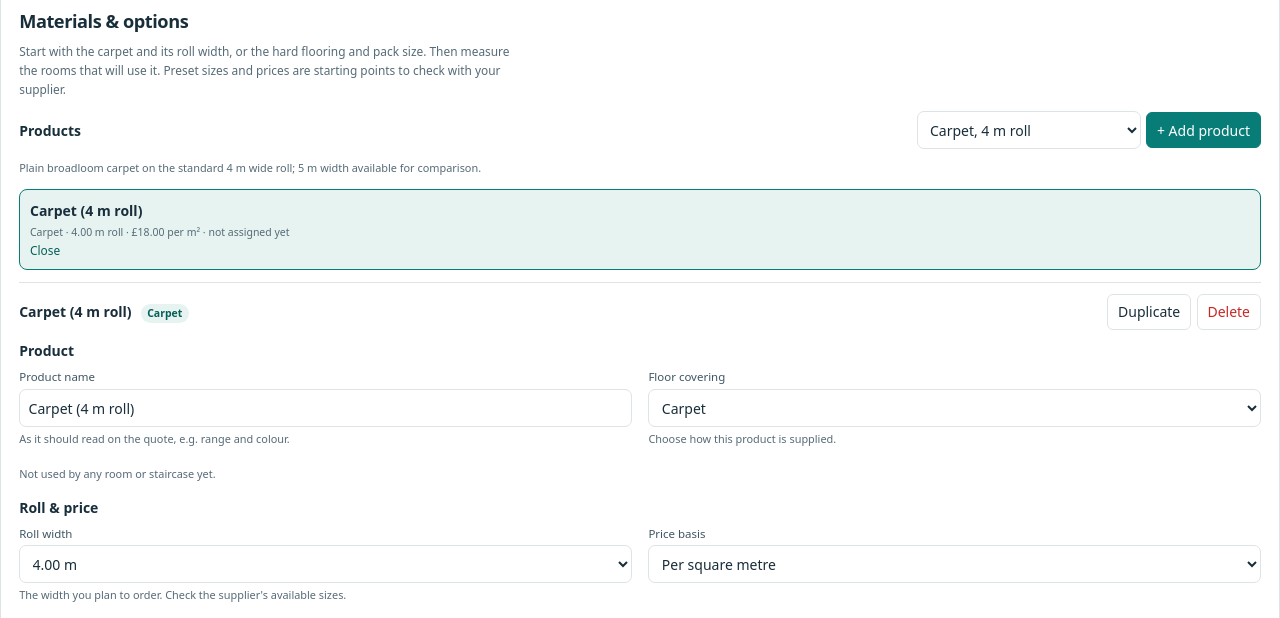
Test: MaterialsPanel › adds a product from a preset and opens it for editing
Step 1. Select "Laminate, 8 mm click" in the dropdown named "Product preset" → [1028, 130], box [916, 111, 1140, 149]
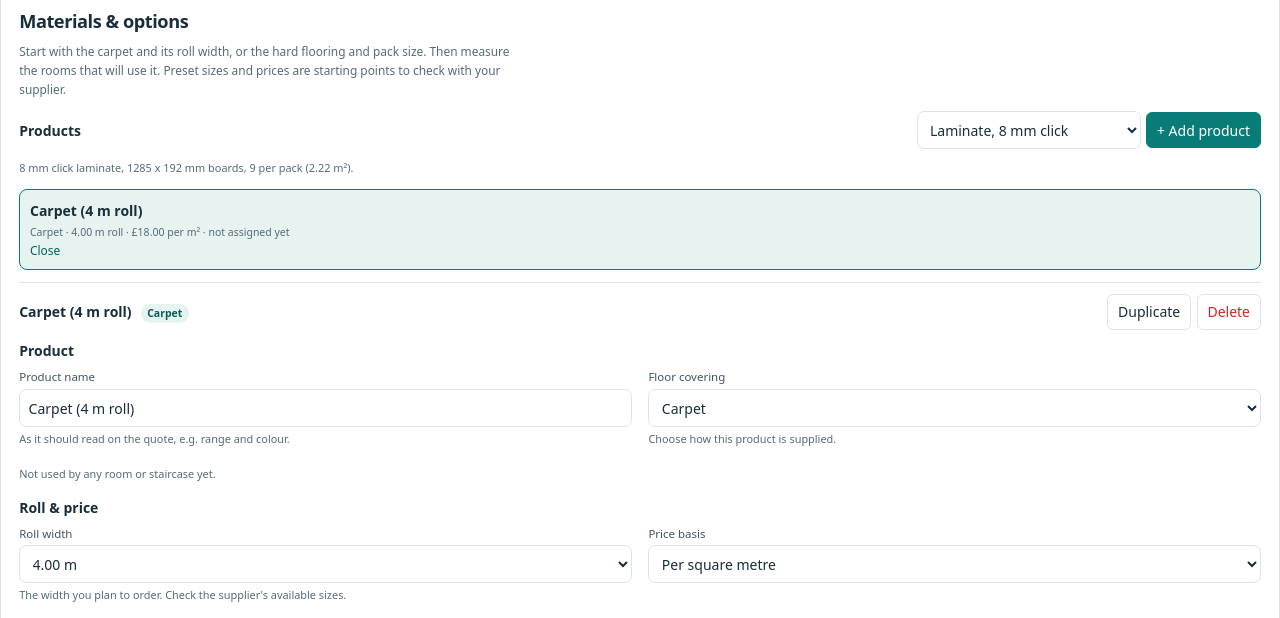
Result: the text "8 mm click laminate" is shown at [19, 160, 353, 175]
Step 2. Click the button "+ Add product" → [1203, 130], box [1146, 112, 1261, 148]
(page scrolled)
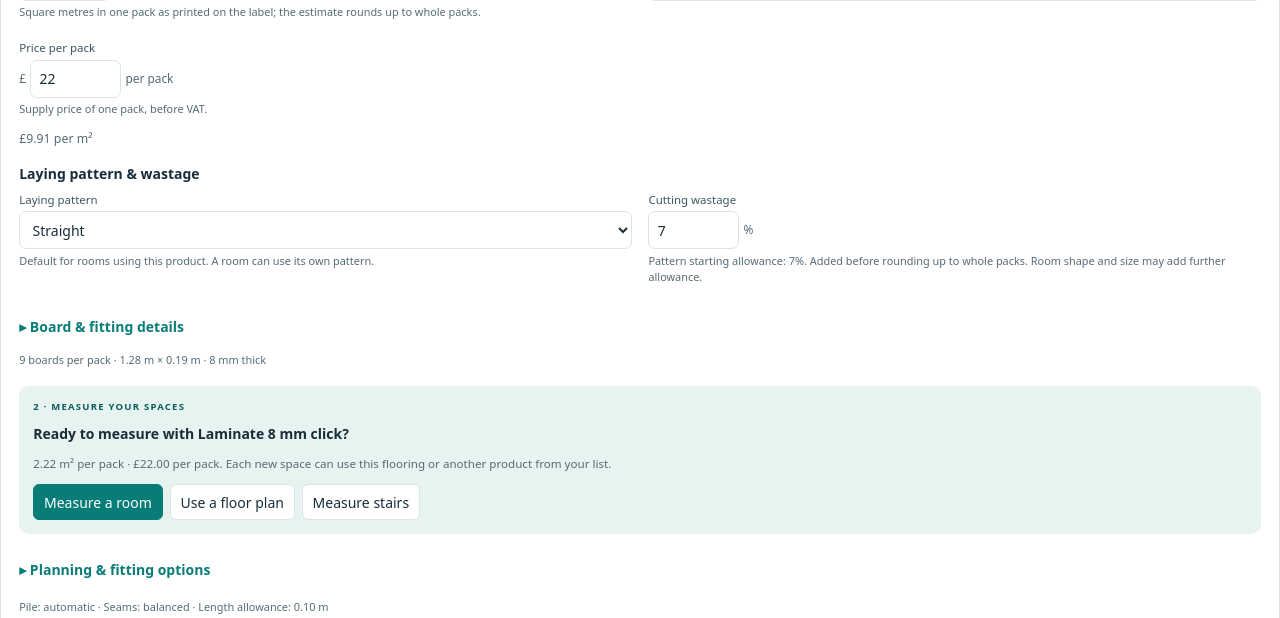
Step 3. Click the button "▸ Board & fitting details" → [102, 326], box [19, 308, 184, 344]
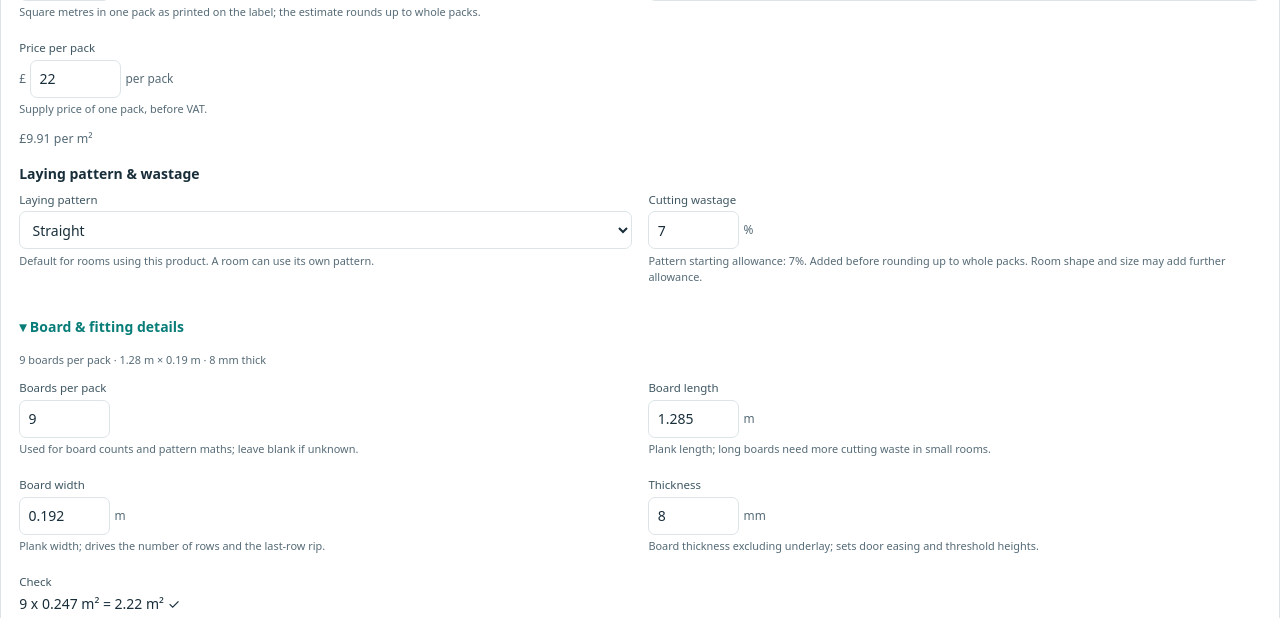
Result: the text with test id "price-per-m2" reads "£9.91 per m²" at [19, 130, 92, 147]
Result: the text with test id "coverage-check" reads "9 x 0.247 m² = 2.22 m² ✓" at [19, 594, 180, 613]
